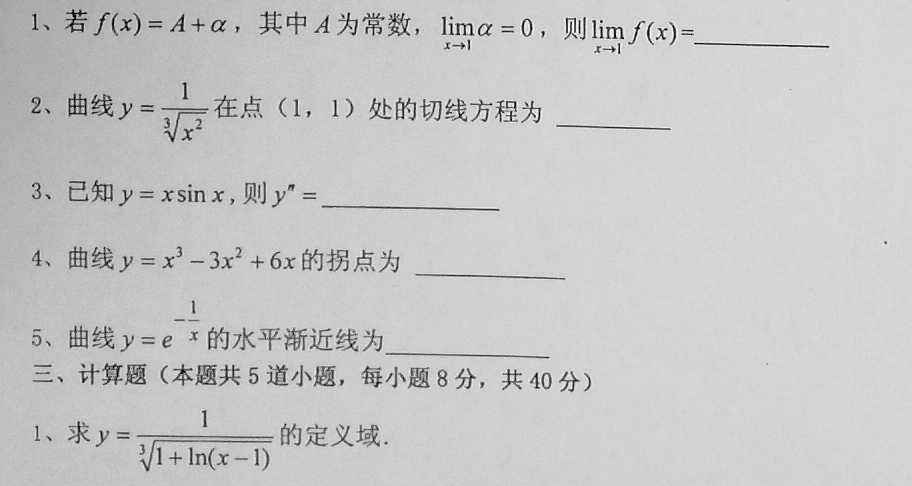text: (28, 7, 834, 56), (32, 83, 680, 143), (28, 300, 552, 361), (29, 408, 390, 472), (25, 362, 595, 402), (24, 245, 568, 285), (28, 175, 504, 217)
